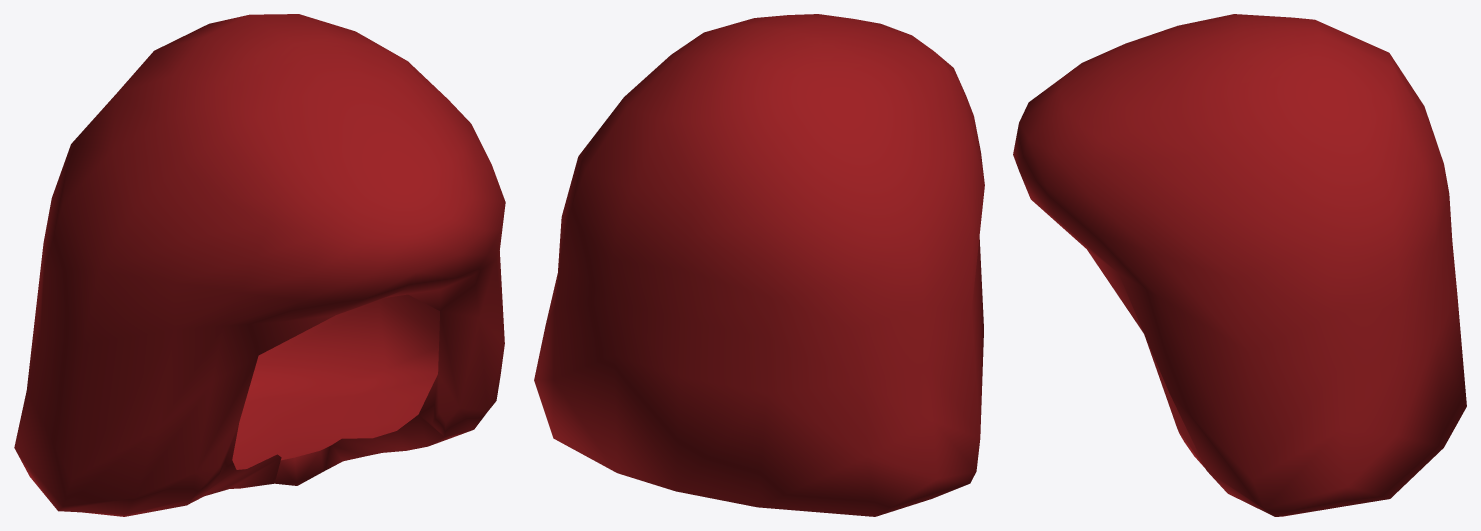
The model's file is NPC_RedHair6.gltf.
3 renders of one model, left to right at view 1: azimuth 30°, elevation 25°; view 2: azimuth 150°, elevation 25°; view 3: azimuth 270°, elevation 25°, orthographic. The views are drawn at different scales.
Parts seen in each view (by area): view 1: NPC_RedHair.006; view 2: NPC_RedHair.006; view 3: NPC_RedHair.006.
Boxes of the visible parts, x1,y1,x2,y2 form: NPC_RedHair.006: [14, 14, 505, 516]; NPC_RedHair.006: [534, 14, 984, 516]; NPC_RedHair.006: [1013, 14, 1466, 516].
Bounding box in the file's own units: 0.7755 × 0.769 × 0.7601.
1 material, 1 textured.
